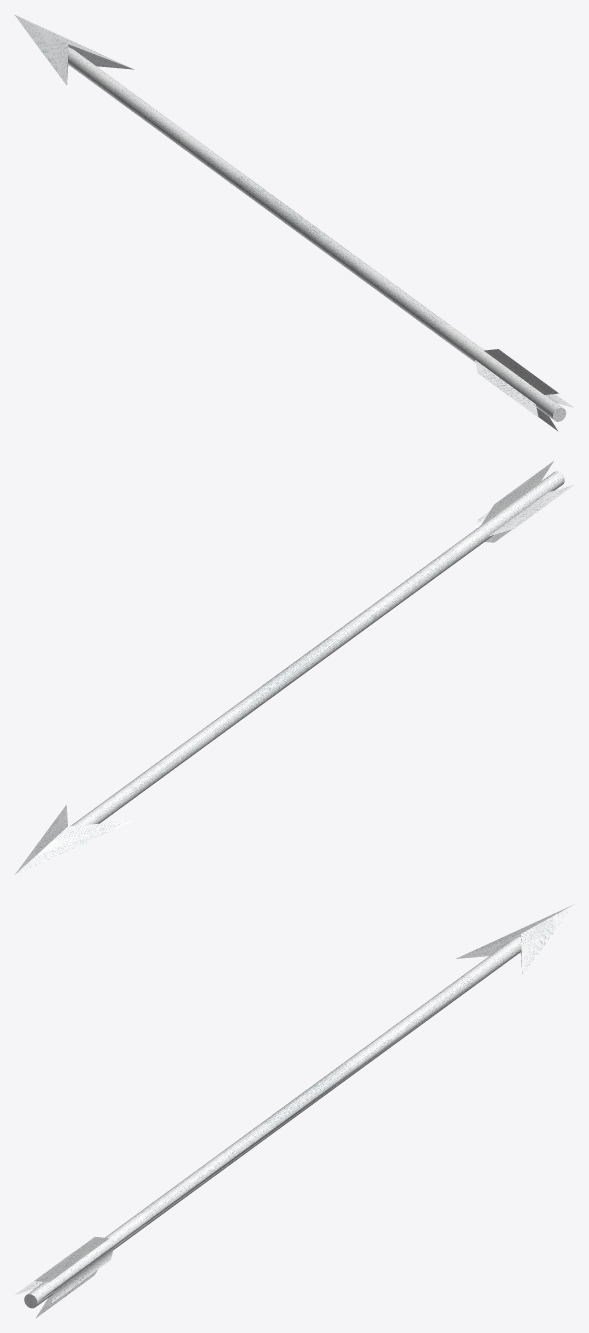
File: Arrow3.fbx
The picture shows the model from 3 angles, top to bottom: view 1: azimuth 30°, elevation 25°; view 2: azimuth 150°, elevation 25°; view 3: azimuth 330°, elevation 25°; orthographic projection.
Visible parts, largest first — view 1: Model; view 2: Model; view 3: Model.
Boxes of the visible parts, x1=… form: Model: x1=14, y1=14, x2=573, y2=430; Model: x1=14, y1=461, x2=574, y2=875; Model: x1=15, y1=904, x2=574, y2=1317.
Bounding box in the file's own units: 3.6 × 1.97 × 50.3.
